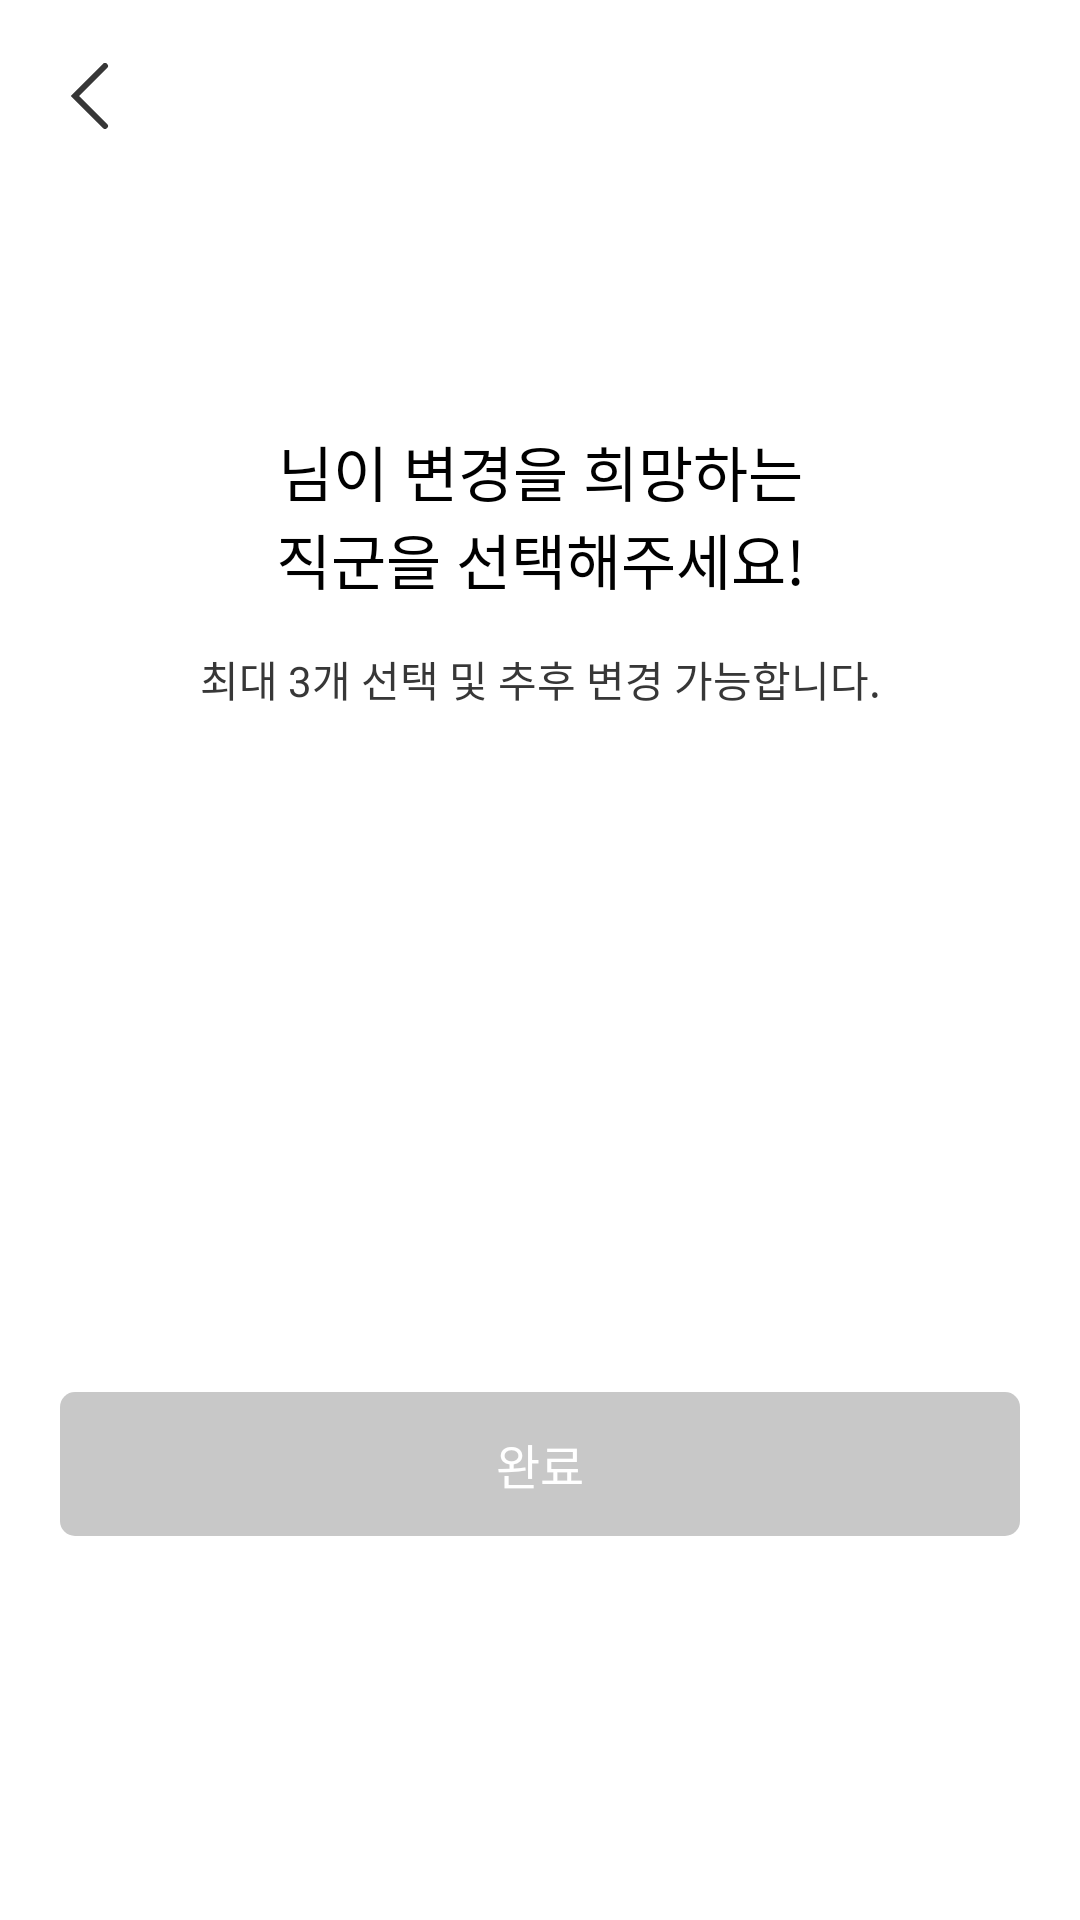

Icons on this 1080px x 1920px Android screen, each with the point to tap as [x,y]:
back: [89,96]
